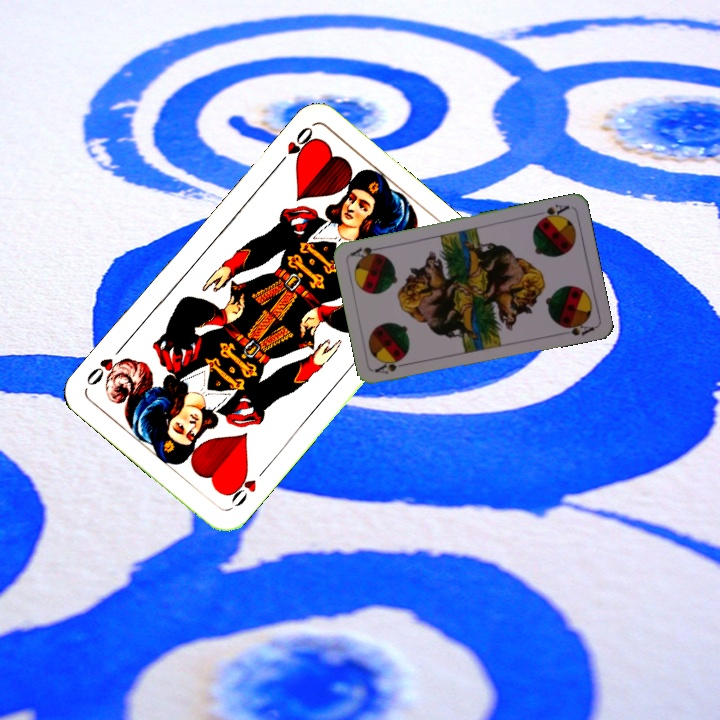HO: (223, 463, 270, 510), (272, 122, 317, 170)
SA: (532, 200, 572, 224), (372, 355, 412, 377)
